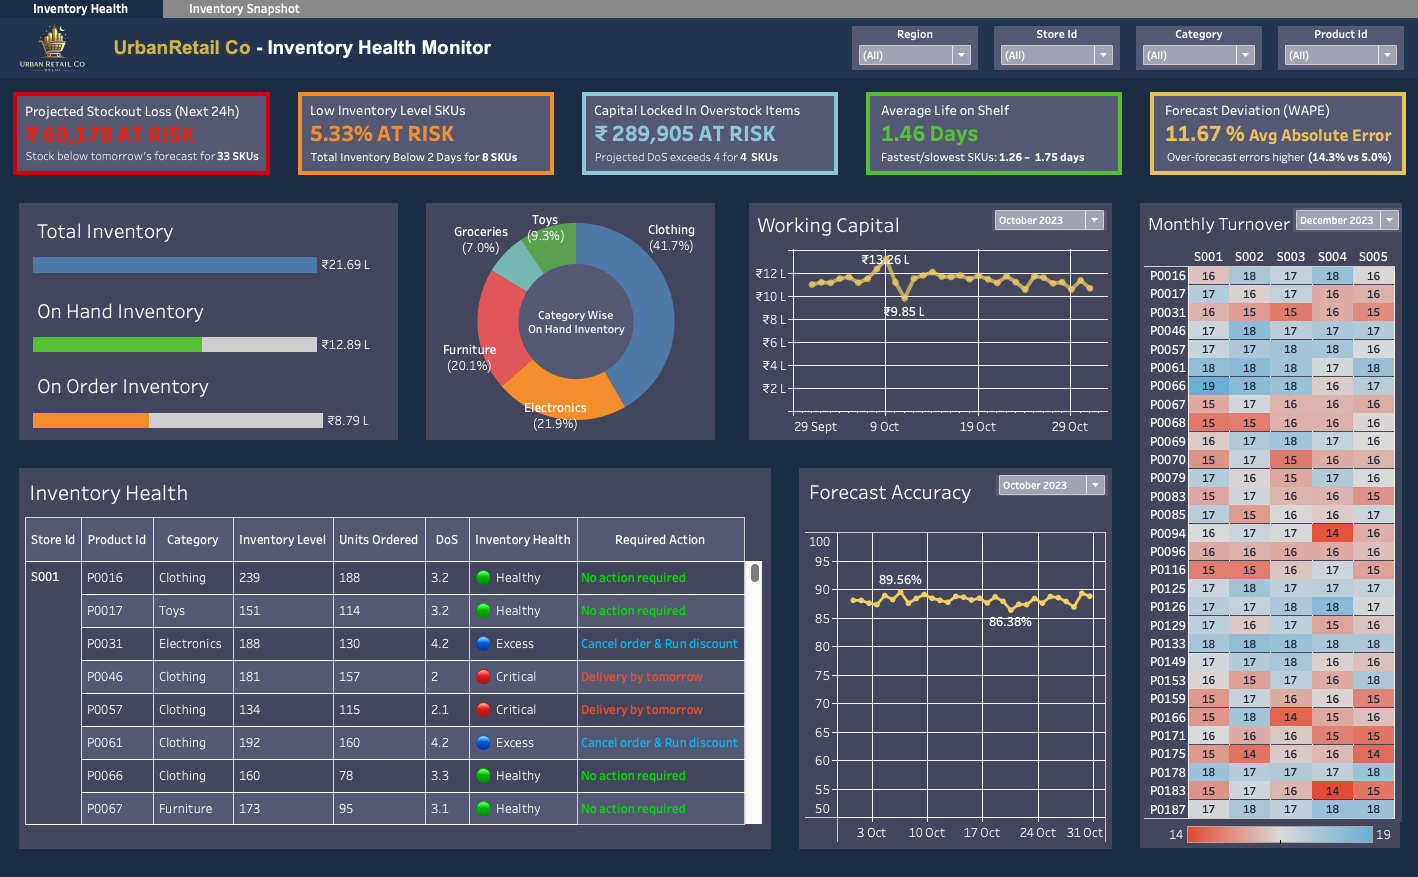

This screenshot's page, from the dashboard's own definition file:
{"tool":"tableau","page":{"name":"Dashboard 1 (Health)","canvas":[1440,900],"ordinal":0},"visuals":[{"type":"dashboard-object","box":[11.7,11.7,164,20]},{"type":"dashboard-object","box":[175.7,11.7,164,20]},{"type":"image","param":"Image/cropped logo.png","box":[11.7,31.7,108,60]},{"type":"text","box":[119.7,31.7,737,60]},{"type":"filter","title":"Working Capital","param":"[federated.1d204pm0ka8p7n1dgkums09uytbx].[none:region:nk]","box":[857,32,142,60]},{"type":"filter","title":"Working Capital","param":"[federated.1d204pm0ka8p7n1dgkums09uytbx].[none:store_id:nk]","box":[999,32,142,60]},{"type":"filter","title":"Working Capital","param":"[federated.1d204pm0ka8p7n1dgkums09uytbx].[none:category:nk]","box":[1141,32,142,60]},{"type":"filter","title":"Working Capital","param":"[federated.1d204pm0ka8p7n1dgkums09uytbx].[none:product_id:nk]","box":[1283,32,142,60]},{"type":"worksheet","title":"Projected Stockout Loss","mark":"Automatic","box":[12,92,285,111]},{"type":"worksheet","title":"% of Low Inventory SKUs","mark":"Text","box":[297,92,284,111]},{"type":"worksheet","title":"Projected Capital Locked in Overstock","mark":"Automatic","box":[581,92,284,111]},{"type":"worksheet","title":"Average life on shelf","mark":"Text","box":[865,92,284,111]},{"type":"worksheet","title":"Forecast Model Error","mark":"Automatic","box":[1149,92,284,111]},{"type":"worksheet","title":"Category Wise Inventory","mark":"Pie","cols":["Calculation_146507750245437443","Calculation_944841153354223620"],"box":[424.7,202.7,323,265.3]},{"type":"worksheet","title":"Working Capital","mark":"Line","rows":["Calculation_6895081422912102400"],"cols":["full_date"],"box":[747.7,202.7,391.3,265.3]},{"type":"worksheet","title":"Monthly Turnover","mark":"Bar","rows":["product_id"],"cols":["store_id"],"box":[1139,202.7,294,633.8]},{"type":"filter","title":"Monthly Turnover","param":"[federated.1d204pm0ka8p7n1dgkums09uytbx].[my:full_date:ok]","box":[1306,222,109,24]},{"type":"worksheet","title":"Total Inventory","mark":"Bar","cols":["Calculation_6959750298835202050"],"box":[38,223,367,75]},{"type":"filter","title":"Working Capital","param":"[federated.1d204pm0ka8p7n1dgkums09uytbx].[my:full_date:ok]","box":[1005,224,115,21]},{"type":"worksheet","title":"On Hand Inventory","mark":"Bar","cols":["Calculation_6959750298835202050","Calculation_6895081422912102400"],"box":[38,298,367,75]},{"type":"worksheet","title":"On Order Inventory","mark":"Bar","cols":["Calculation_6959750298835202050","Calculation_7031807892879847424"],"box":[38,373,367,75]},{"type":"worksheet","title":"Inventory Health","mark":"Automatic","rows":["store_id","product_id","category","inventory_level","units_ordered","dos","Calculation_986006868753678337"],"cols":["Calculation_1032802083638743044"],"box":[11.7,468,786.3,415]},{"type":"worksheet","title":"Forecast Accuracy","mark":"Line","rows":["Units Weighted Absolute % error (copy)_614530268889092098"],"cols":["full_date"],"box":[798,468,341,415]},{"type":"filter","title":"Forecast Accuracy","param":"[federated.1d204pm0ka8p7n1dgkums09uytbx].[my:full_date:ok]","box":[1009,489,112,21]},{"type":"legend","title":"Monthly Turnover","param":"[federated.1d204pm0ka8p7n1dgkums09uytbx].[usr:Calculation_242701824339742723:qk]","box":[1139,836.5,294,46.5]},{"type":"blank","box":[11.7,883,1421.3,10]}]}

Visuals, with their boxes in screenshot pixels (x1, y1, x2, y2), scaled from the page's 1440x900 canvas onto the 1418x877 screenshot:
dashboard-object: Rect(12, 11, 173, 31)
dashboard-object: Rect(173, 11, 335, 31)
image: Rect(12, 31, 118, 89)
text: Rect(118, 31, 844, 89)
"Working Capital" filter: Rect(844, 31, 984, 90)
"Working Capital" filter: Rect(984, 31, 1124, 90)
"Working Capital" filter: Rect(1124, 31, 1263, 90)
"Working Capital" filter: Rect(1263, 31, 1403, 90)
"Projected Stockout Loss" worksheet: Rect(12, 90, 292, 198)
"% of Low Inventory SKUs" worksheet (Text marks): Rect(292, 90, 572, 198)
"Projected Capital Locked in Overstock" worksheet: Rect(572, 90, 852, 198)
"Average life on shelf" worksheet (Text marks): Rect(852, 90, 1131, 198)
"Forecast Model Error" worksheet: Rect(1131, 90, 1411, 198)
"Category Wise Inventory" worksheet (Pie marks): Rect(418, 198, 736, 456)
"Working Capital" worksheet (Line marks): Rect(736, 198, 1122, 456)
"Monthly Turnover" worksheet (Bar marks): Rect(1122, 198, 1411, 815)
"Monthly Turnover" filter: Rect(1286, 216, 1393, 240)
"Total Inventory" worksheet (Bar marks): Rect(37, 217, 399, 290)
"Working Capital" filter: Rect(990, 218, 1103, 239)
"On Hand Inventory" worksheet (Bar marks): Rect(37, 290, 399, 363)
"On Order Inventory" worksheet (Bar marks): Rect(37, 363, 399, 437)
"Inventory Health" worksheet: Rect(12, 456, 786, 860)
"Forecast Accuracy" worksheet (Line marks): Rect(786, 456, 1122, 860)
"Forecast Accuracy" filter: Rect(994, 477, 1104, 497)
"Monthly Turnover" legend: Rect(1122, 815, 1411, 860)
blank: Rect(12, 860, 1411, 870)
